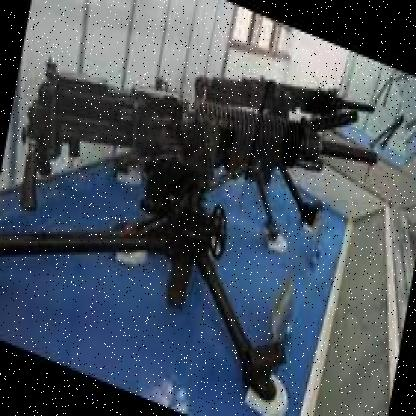rifle: (26, 20, 384, 268)
